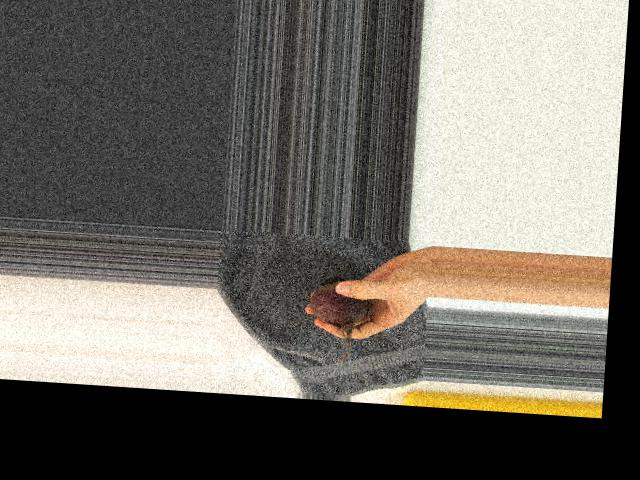beet: (306, 274, 369, 365)
